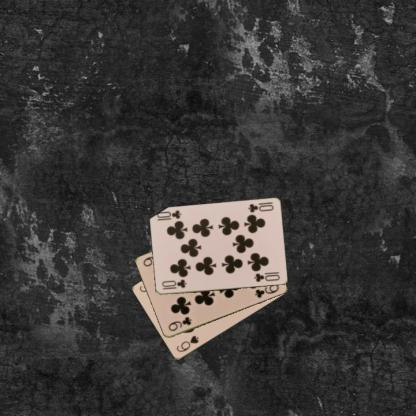10c: (159, 276, 188, 290), (245, 201, 274, 214)
6s: (174, 332, 200, 353)
9c: (166, 314, 192, 333)
